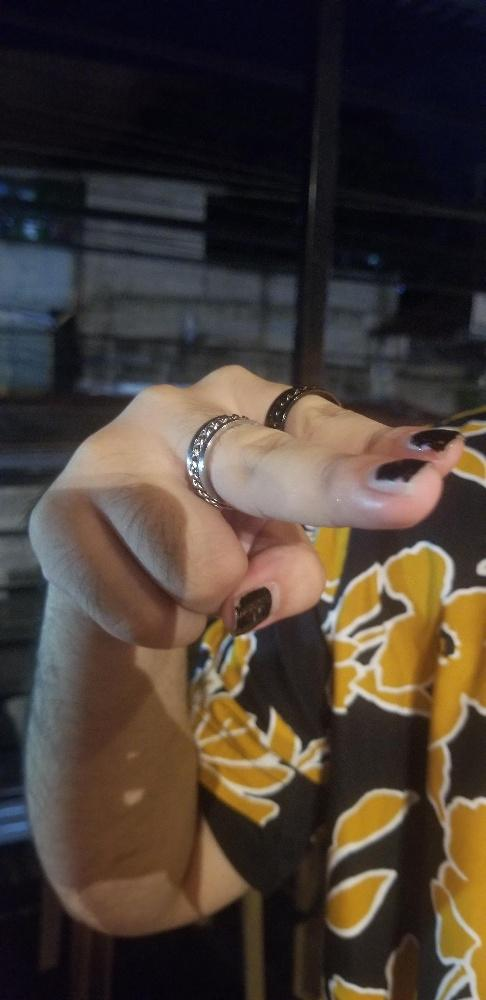n: (24, 363, 459, 652)
